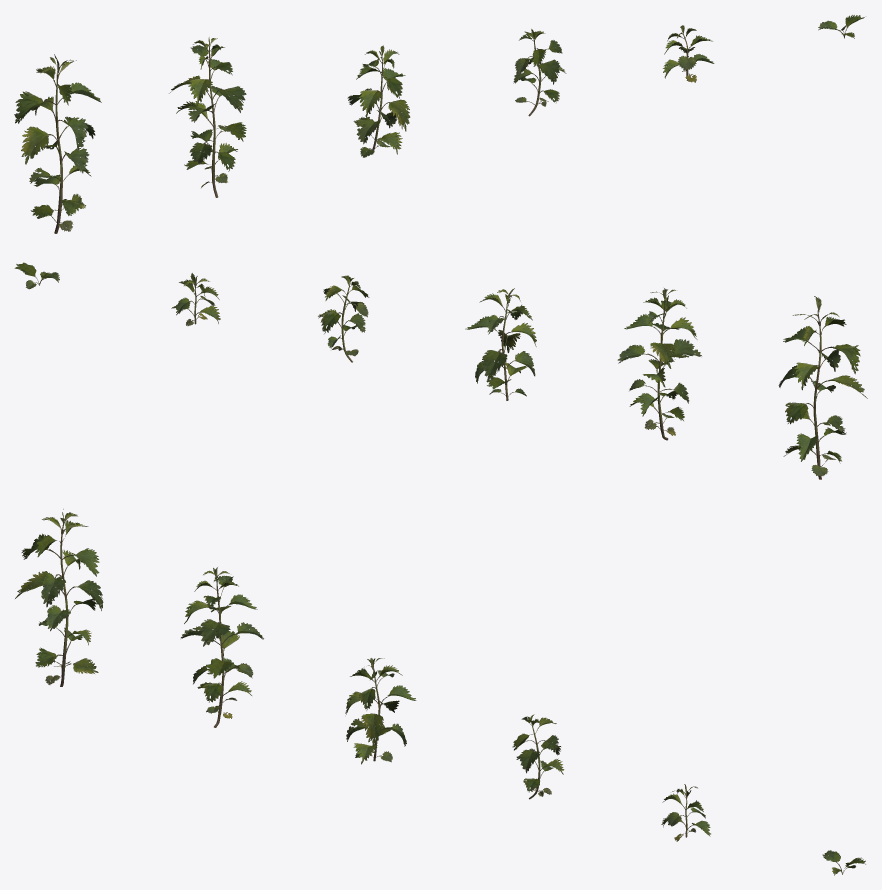
The model's file is nettle_plant_1k.gltf.
3 views of the same model, one above another, from view 1: azimuth 30°, elevation 25°; view 2: azimuth 150°, elevation 25°; view 3: azimuth 330°, elevation 25° (orthographic).
Parts seen in each view (by area): view 1: nettle_plant_tall_a_LOD0, nettle_plant_tall_b_LOD0, nettle_plant_medium_a_LOD0, nettle_plant_medium_b_LOD0, nettle_plant_small_a_LOD0; view 2: nettle_plant_tall_a_LOD0, nettle_plant_tall_b_LOD0, nettle_plant_medium_a_LOD0, nettle_plant_medium_b_LOD0, nettle_plant_small_a_LOD0; view 3: nettle_plant_tall_a_LOD0, nettle_plant_tall_b_LOD0, nettle_plant_medium_a_LOD0, nettle_plant_medium_b_LOD0, nettle_plant_small_a_LOD0.
Part boxes in pixels (x1,y1,x2,y2): nettle_plant_tall_a_LOD0: (14, 54, 101, 233); nettle_plant_tall_b_LOD0: (169, 37, 246, 197); nettle_plant_medium_a_LOD0: (347, 45, 410, 157); nettle_plant_medium_b_LOD0: (513, 29, 566, 116); nettle_plant_small_a_LOD0: (663, 25, 714, 82); nettle_plant_tall_a_LOD0: (778, 296, 867, 479); nettle_plant_tall_b_LOD0: (617, 288, 701, 440); nettle_plant_medium_a_LOD0: (465, 288, 536, 400); nettle_plant_medium_b_LOD0: (318, 275, 369, 362); nettle_plant_small_a_LOD0: (171, 273, 220, 325); nettle_plant_tall_a_LOD0: (15, 509, 103, 686); nettle_plant_tall_b_LOD0: (181, 567, 263, 727); nettle_plant_medium_a_LOD0: (345, 658, 416, 764); nettle_plant_medium_b_LOD0: (512, 714, 564, 799); nettle_plant_small_a_LOD0: (661, 784, 710, 841).
Size of the model in its own units: 1.08 by 0.2184 by 0.0947.
Materials: 1 (1 with a texture image).
